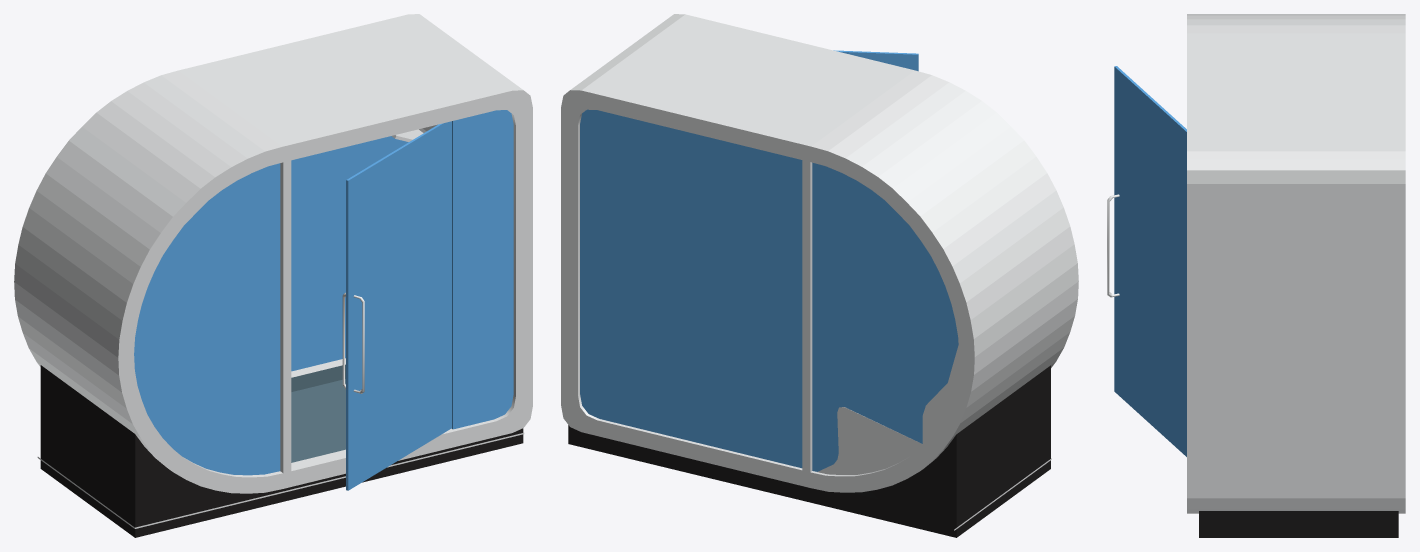
Rendered from M_BRyugang02.FBX.
The picture shows the model from 3 angles, left to right: view 1: azimuth 30°, elevation 25°; view 2: azimuth 150°, elevation 25°; view 3: azimuth 270°, elevation 25°; orthographic projection. The views are drawn at different scales.
Visible parts, largest first — view 1: M_BRyugang02_05, M_BRyugang02_02, M_BRyugang02_01, M_BRyugang02_04; view 2: M_BRyugang02_05, M_BRyugang02_02; view 3: M_BRyugang02_05, M_BRyugang02_02, M_BRyugang02_04.
Boxes of the visible parts, x1,y1,x2,y2 form: M_BRyugang02_05: [14, 14, 532, 537]; M_BRyugang02_02: [134, 110, 513, 490]; M_BRyugang02_01: [37, 433, 524, 528]; M_BRyugang02_04: [342, 128, 426, 393]; M_BRyugang02_05: [561, 14, 1078, 537]; M_BRyugang02_02: [580, 50, 958, 471]; M_BRyugang02_05: [1187, 14, 1405, 537]; M_BRyugang02_02: [1114, 66, 1186, 456]; M_BRyugang02_04: [1107, 194, 1119, 297].
Size of the model in its own units: 4.21 by 3.5 by 2.51.
